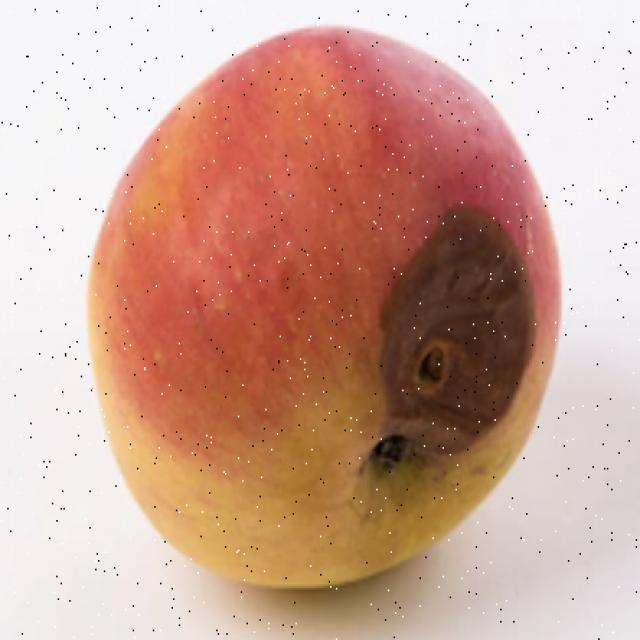Rotten: (117, 35, 543, 598)
